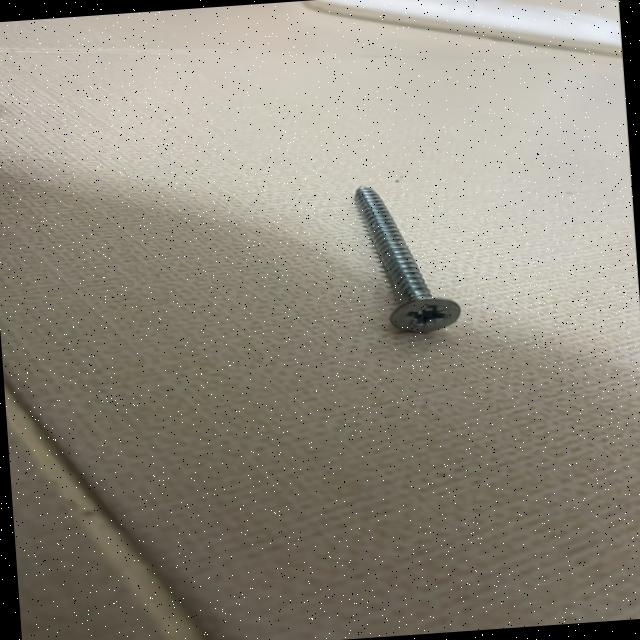Pozidriv: (394, 296, 465, 340)
